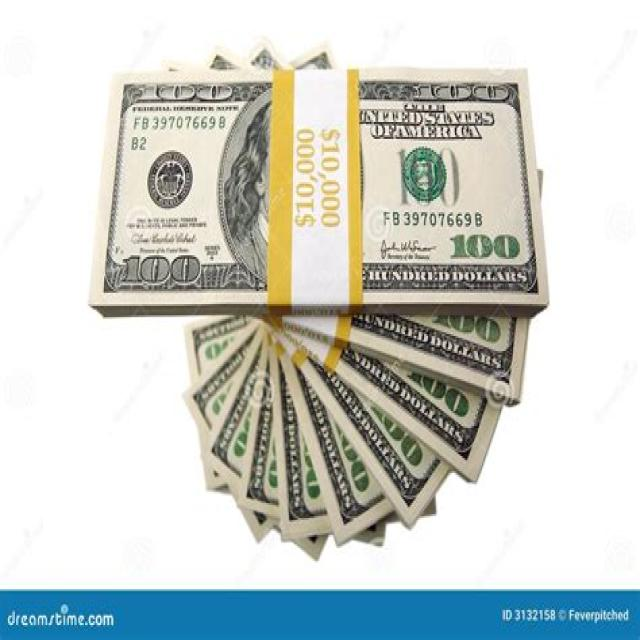Hundred: (92, 72, 550, 306)
